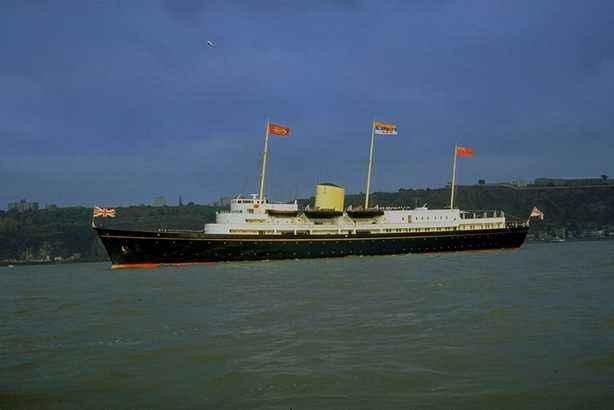otherboat: (96, 114, 559, 267)
